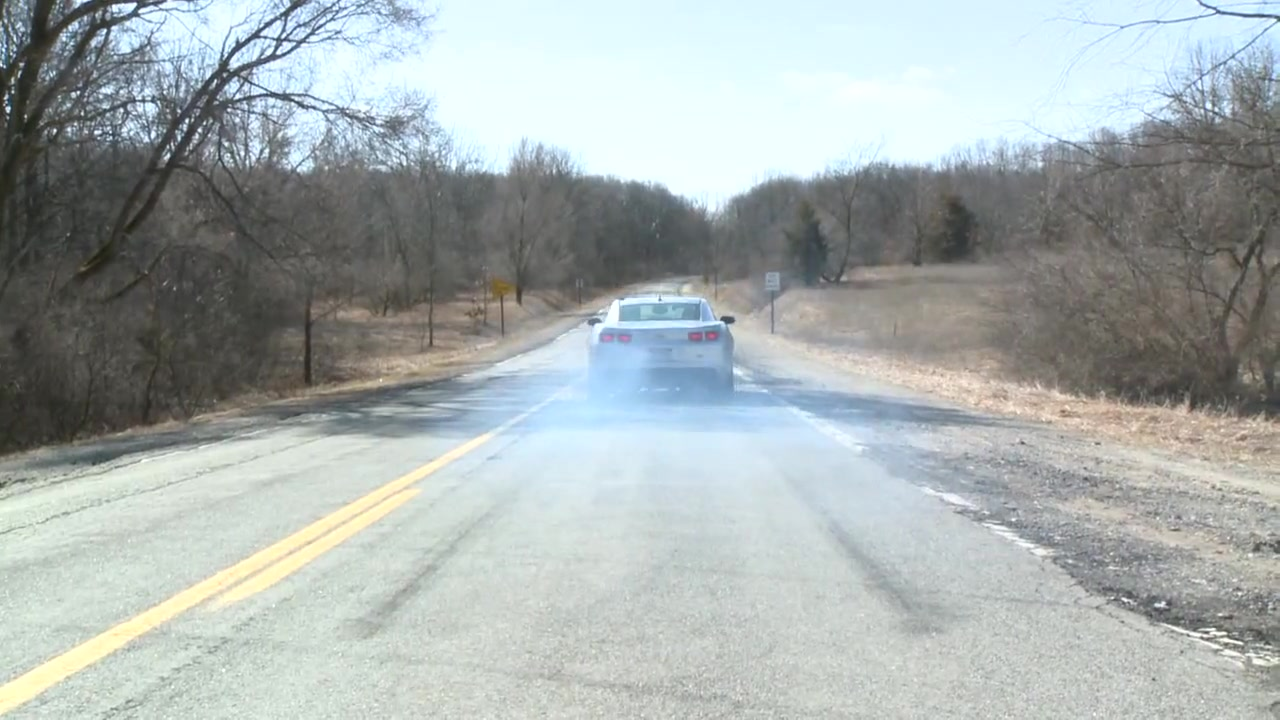car: (586, 295, 737, 400)
